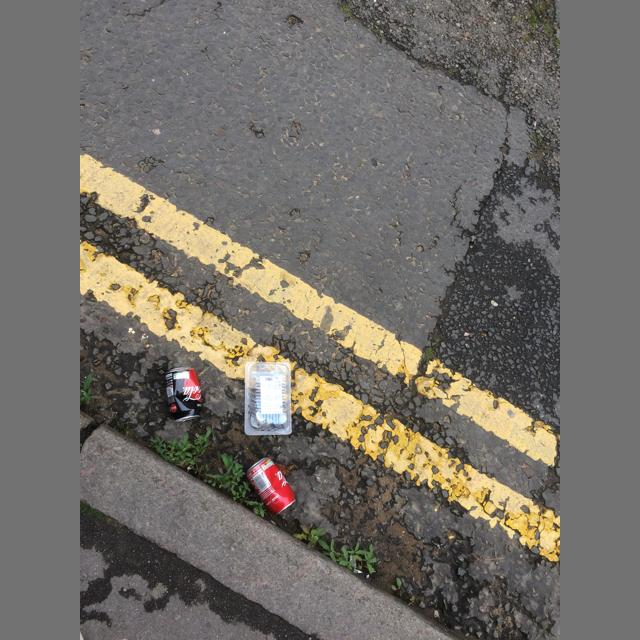litter: (245, 362, 292, 435), (245, 457, 296, 515), (165, 367, 202, 422)
